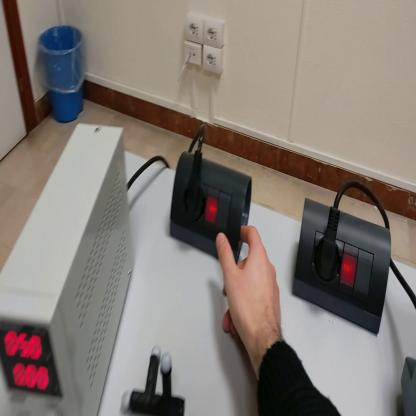hand: (217, 222, 283, 354)
oscilloscope: (401, 356, 416, 415)
power supply: (2, 126, 137, 415)
socket: (296, 197, 393, 337), (173, 149, 254, 264)
